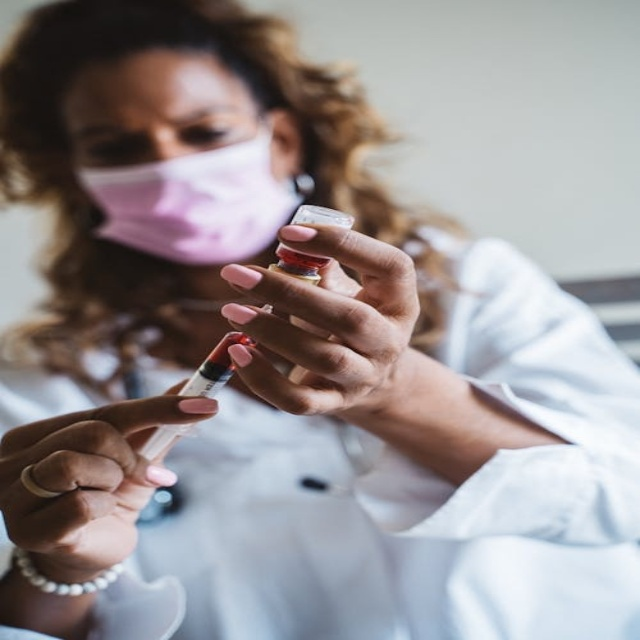Mascara: (73, 126, 306, 264)
Sin_gafas: (61, 99, 253, 172)
Sin_guantes: (206, 218, 422, 420), (0, 390, 216, 580)
